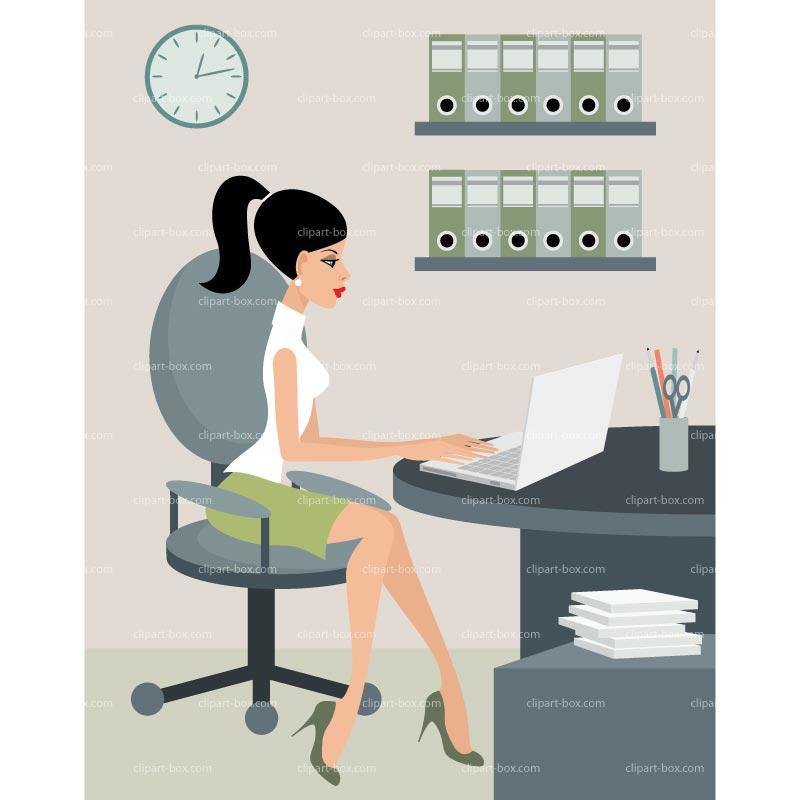chair: (130, 243, 397, 741)
person: (193, 154, 499, 786)
